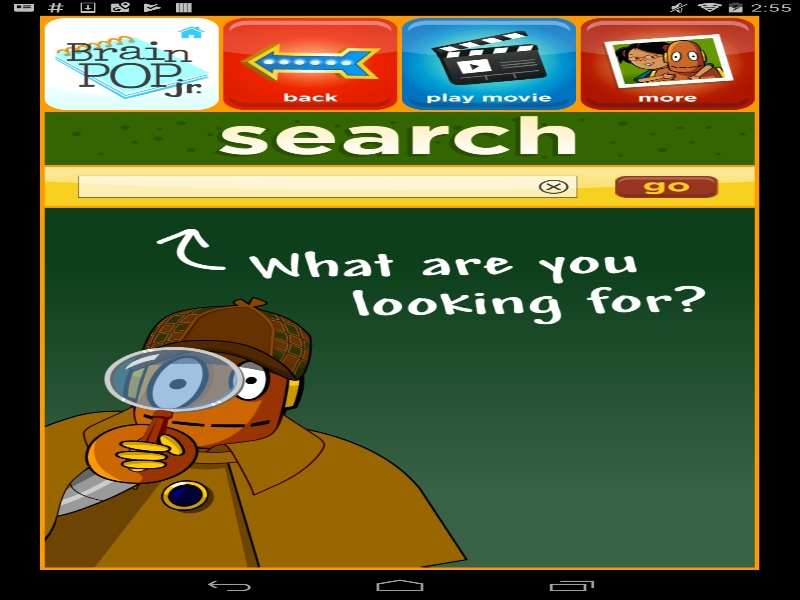Button: (401, 17, 576, 109), (44, 17, 218, 109), (223, 17, 397, 109), (580, 17, 754, 109), (615, 175, 718, 197)
Input: (78, 175, 547, 197)
